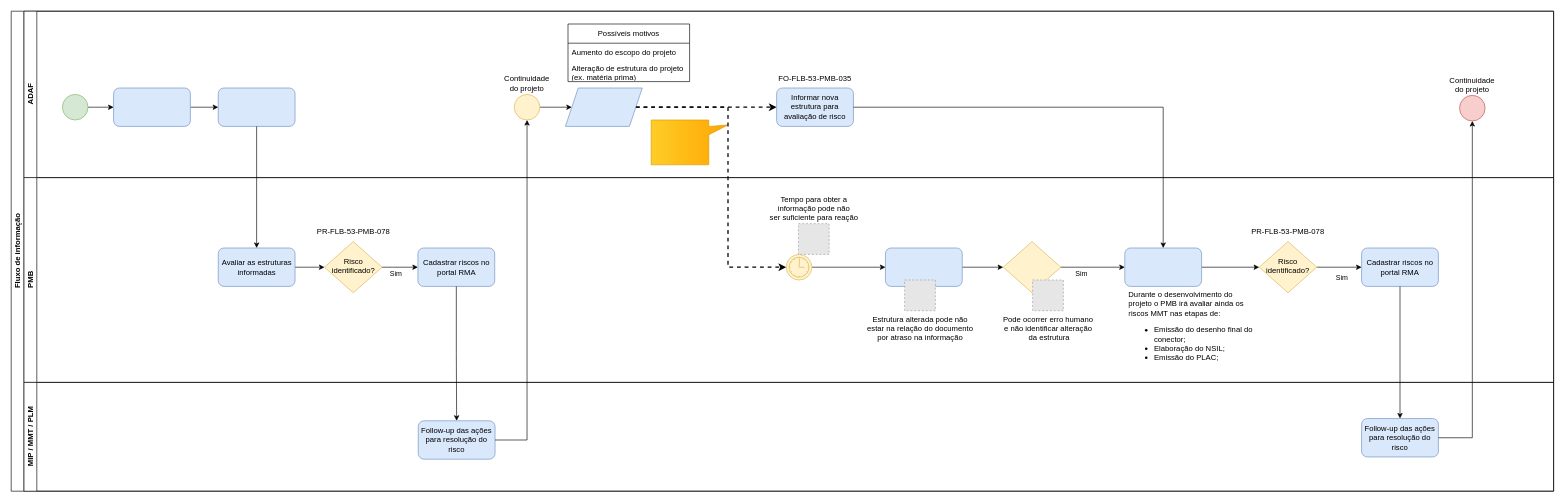
This 1565x502 diagram has some shape labels left out. Grey dashed boxes stand in for pictures. Each missing label, with the centre of its shape:
"A valiar as estruturas identificadas" goes at point 1163,266.
"Aguardar atualização do planning longo prazo *Atualização 1 vez por mês" goes at point 799,267.
"Avaliar documento do planning longo prazo" goes at point 923,266.
"Decisão qual será o input" goes at point 689,142.
"Identificado alteração de estrutura?" goes at point 1032,267.
"Informar estruturas que estão firmes após handover" goes at point 256,106.
"Nova estrutura no projeto" goes at point 603,106.
"Promover reunião de kick-off do projeto" goes at point 151,106.
